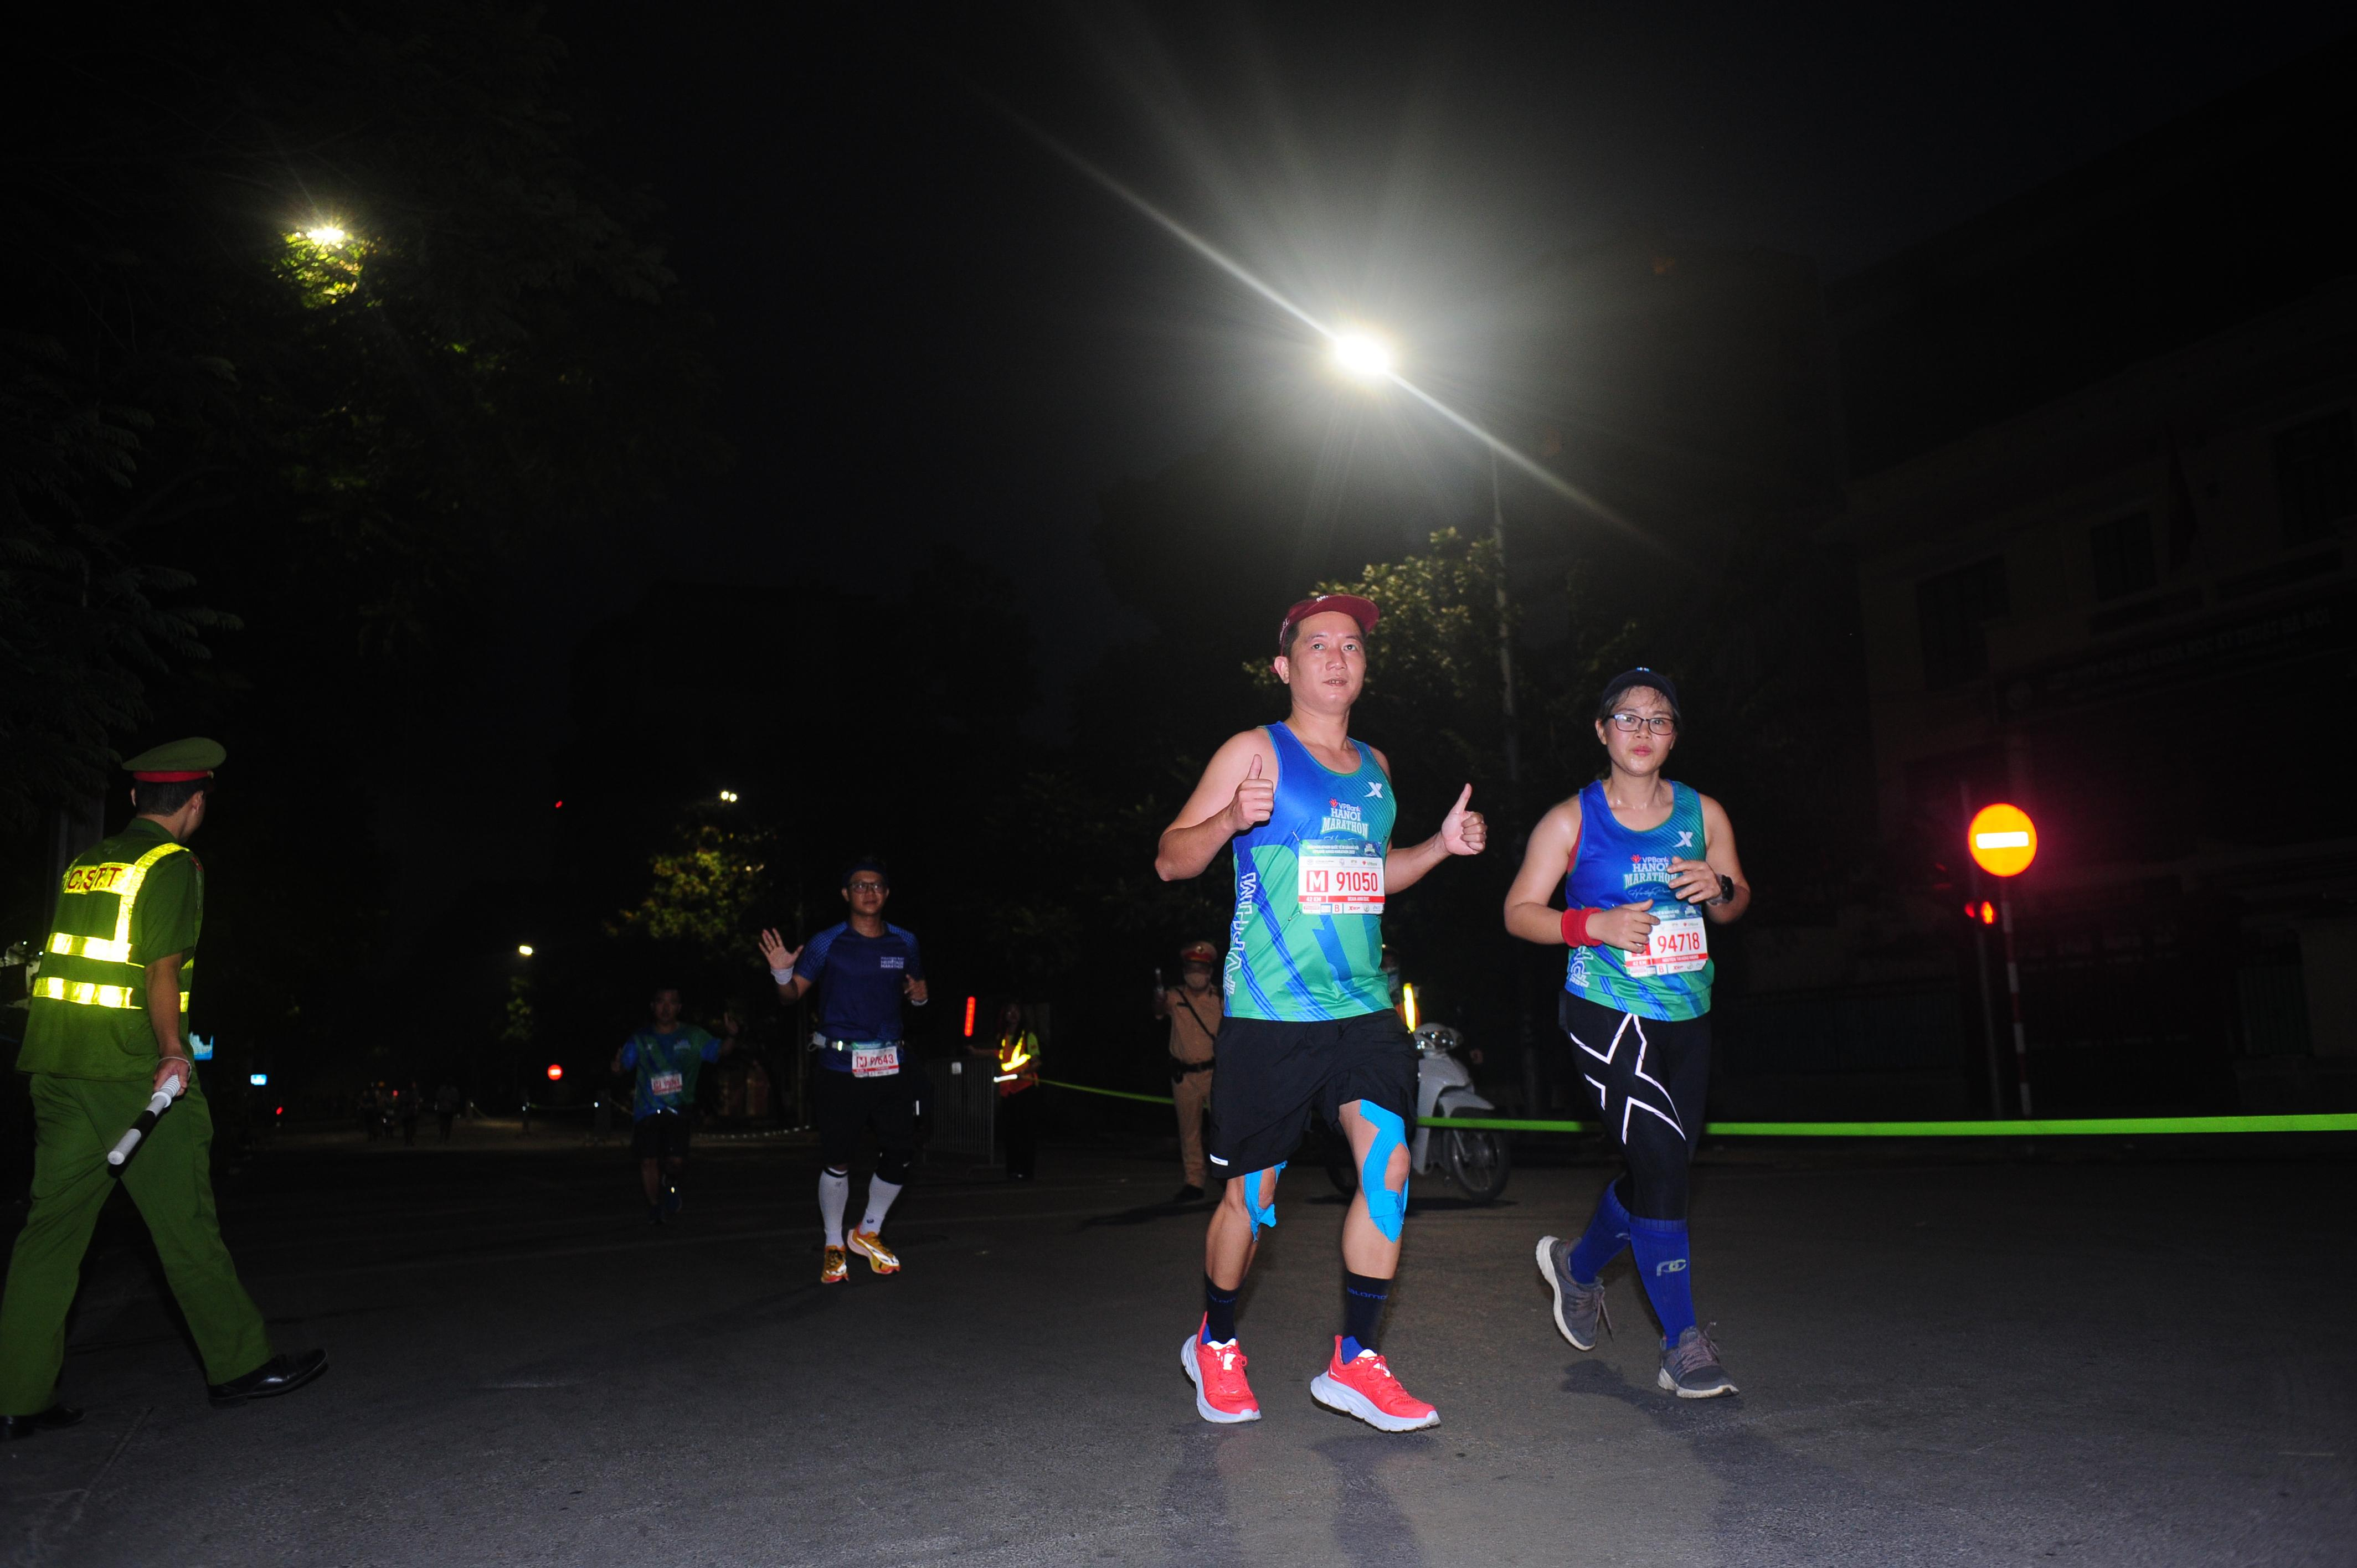bib: (1297, 838, 1384, 915), (1624, 906, 1708, 980), (850, 1041, 898, 1080), (653, 1074, 682, 1092)
